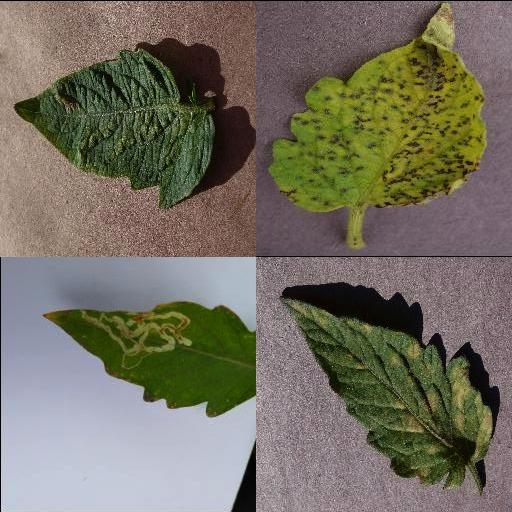Leaf Miner: (40, 299, 256, 417)
Leaf Mold: (278, 296, 494, 486)
Septoria: (269, 5, 486, 213)
Spider Mites: (13, 46, 215, 206)
